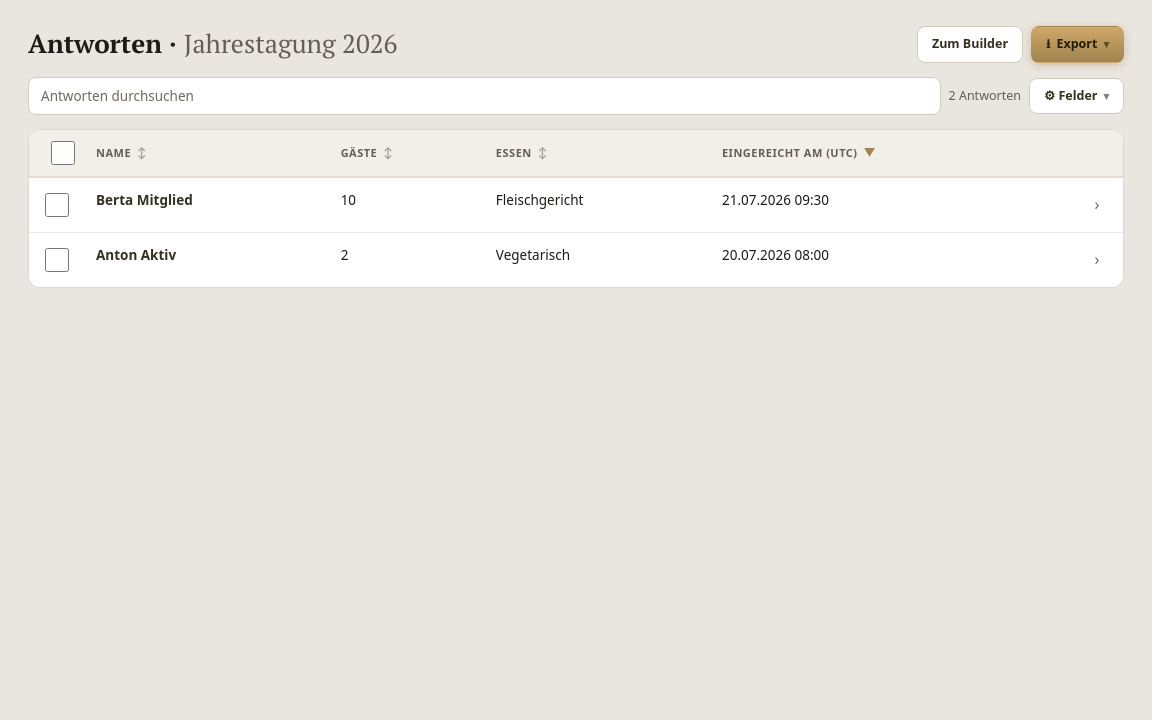
ResponsesView › opens one response in full, with the version it was checked against
The width and height of the screenshot is (1152, 720).
Expected: the heading "Antworten · Jahrestagung 2026" is shown, [28,29,398,59]
Step 1. Click the button named "Ansehen" → (1097,259), box [1083,245,1111,273]
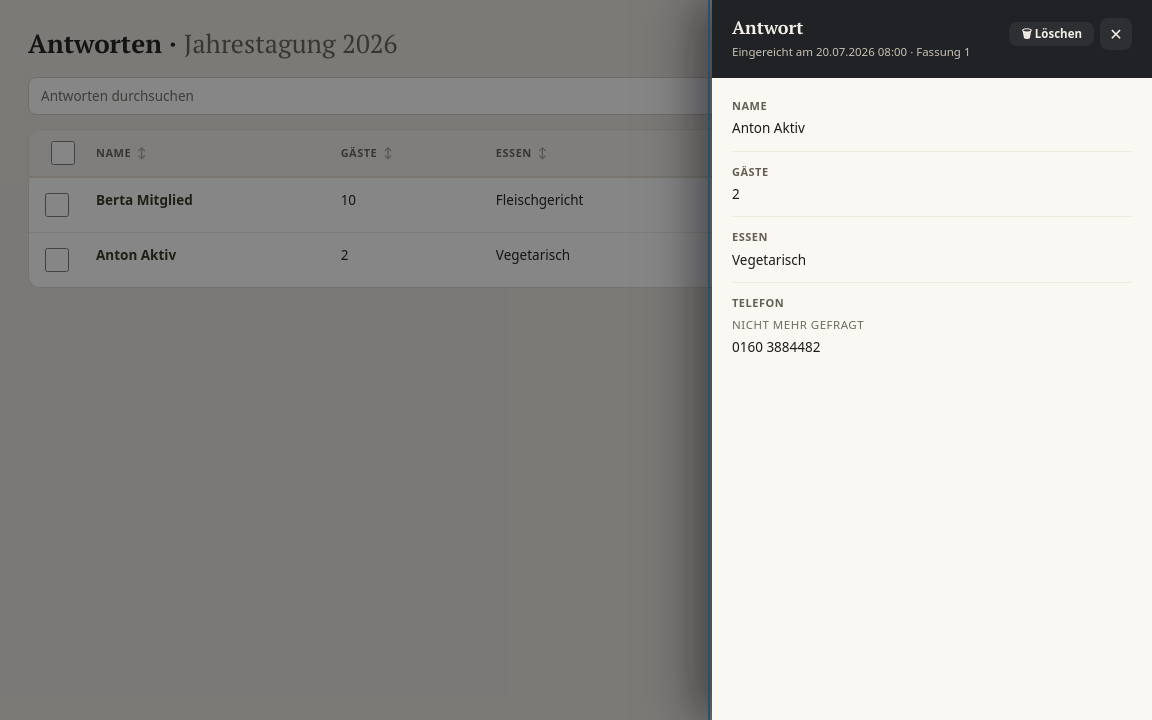
Expected: the text "Name" is shown, [732,98,767,113]
Expected: the text "Anton Aktiv" is shown, [732,119,805,137]
Expected: the text "Vegetarisch" is shown, [732,251,806,269]
Step 2. Click the button named "Schließen" → (1116,34), box [1100,18,1132,50]
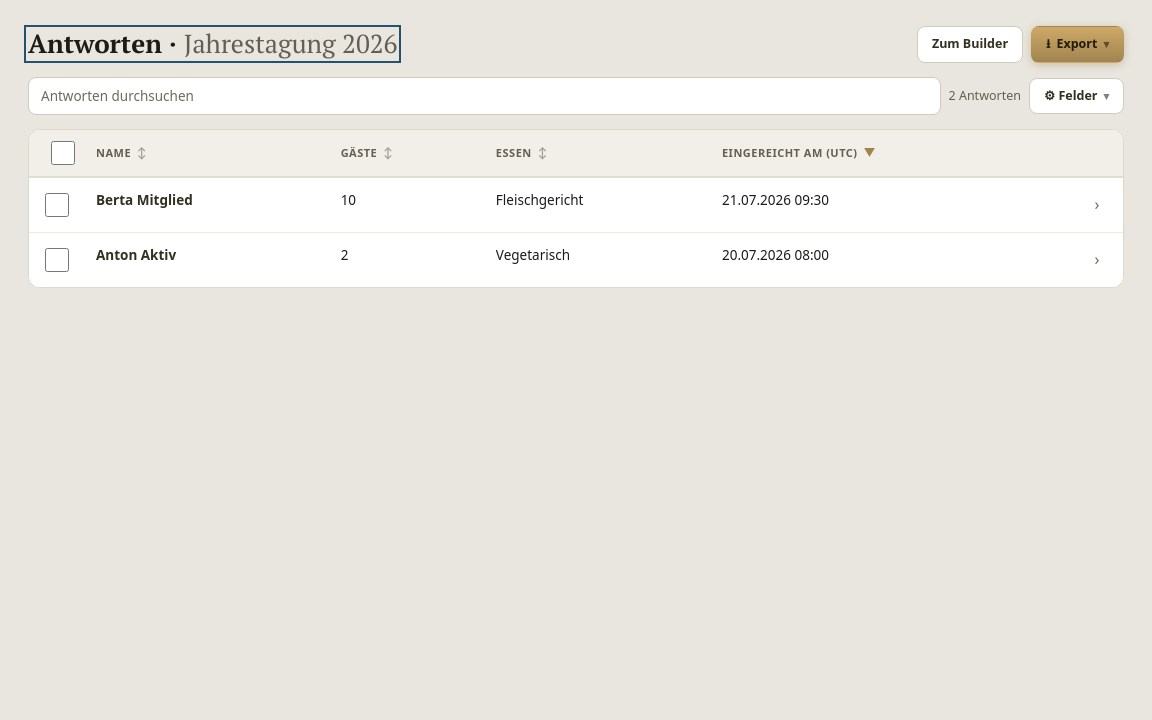
Expected: the dialog is gone
